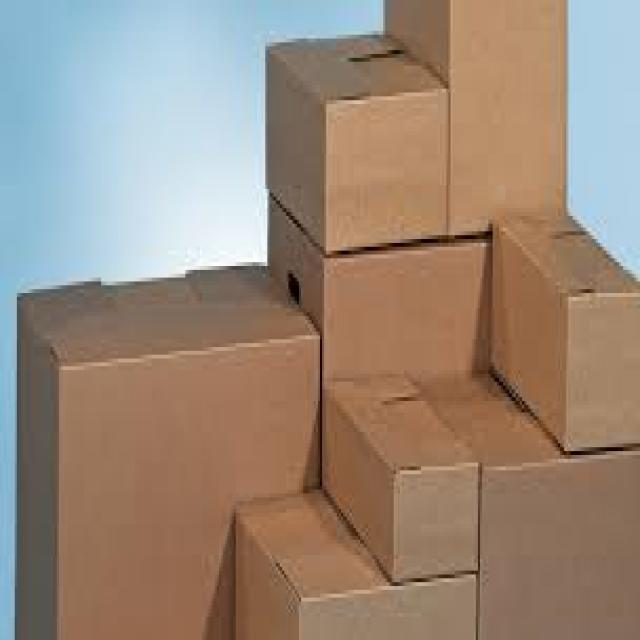Cardboard: (16, 263, 324, 638), (265, 32, 449, 258), (492, 211, 639, 452), (325, 380, 479, 582)
